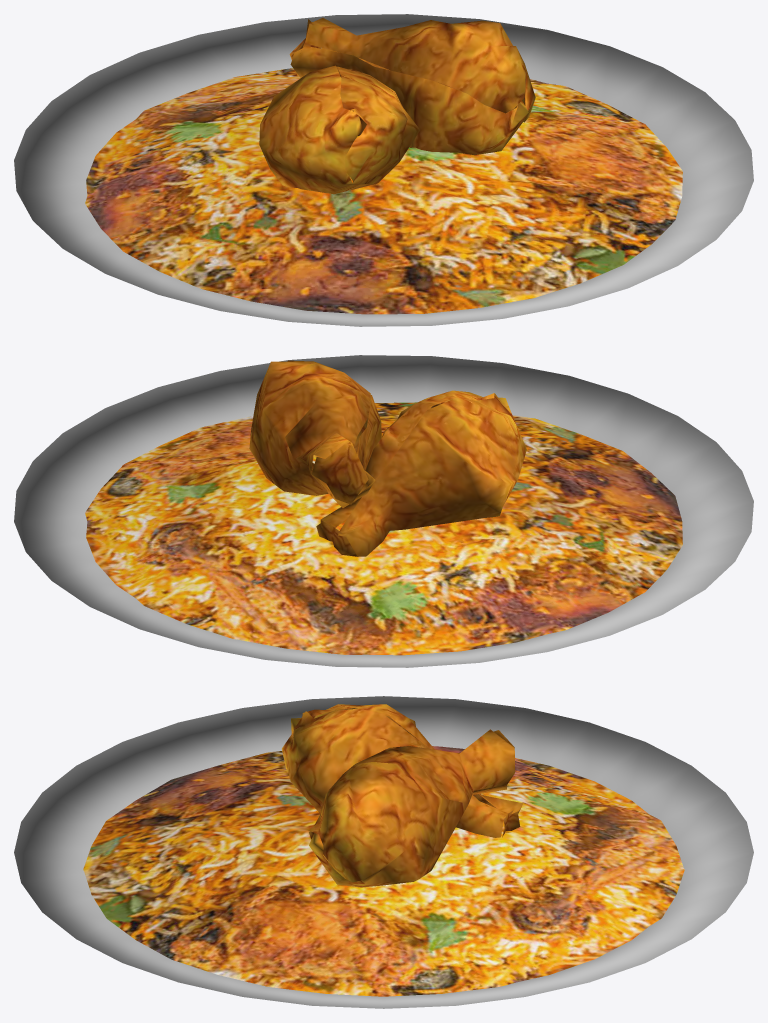
Rendered from Biryani-transformed.glb.
The picture shows the model from 3 angles, top to bottom: view 1: azimuth 30°, elevation 25°; view 2: azimuth 150°, elevation 25°; view 3: azimuth 270°, elevation 25°; orthographic projection.
Parts seen in each view (by area): view 1: Biryani, model_0.002; view 2: Biryani, model_0.002; view 3: Biryani, model_0.002.
Part boxes in pixels (<box>): Biryani: <box>14,14,753,326</box>; model_0.002: <box>259,18,535,194</box>; Biryani: <box>14,355,753,667</box>; model_0.002: <box>249,360,526,556</box>; Biryani: <box>14,696,753,1008</box>; model_0.002: <box>282,704,522,887</box>.
Size of the model in its own units: 0.064 by 0.0141 by 0.064.
3 materials, 2 textured.
